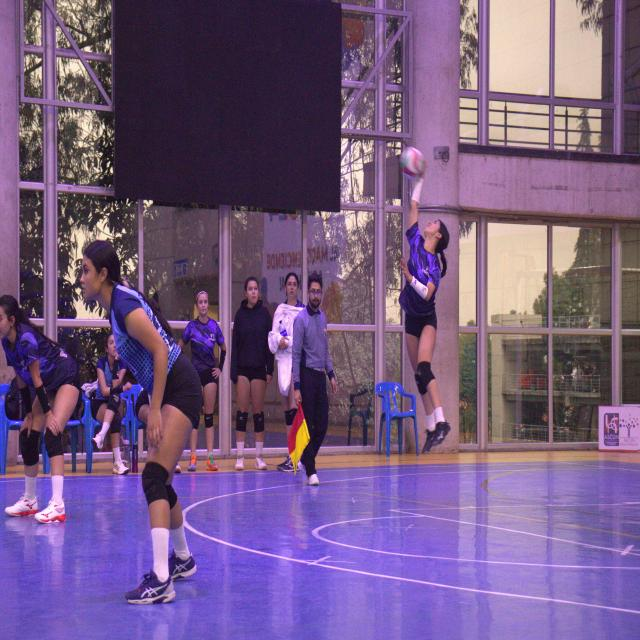volleyball: (402, 145, 426, 181)
